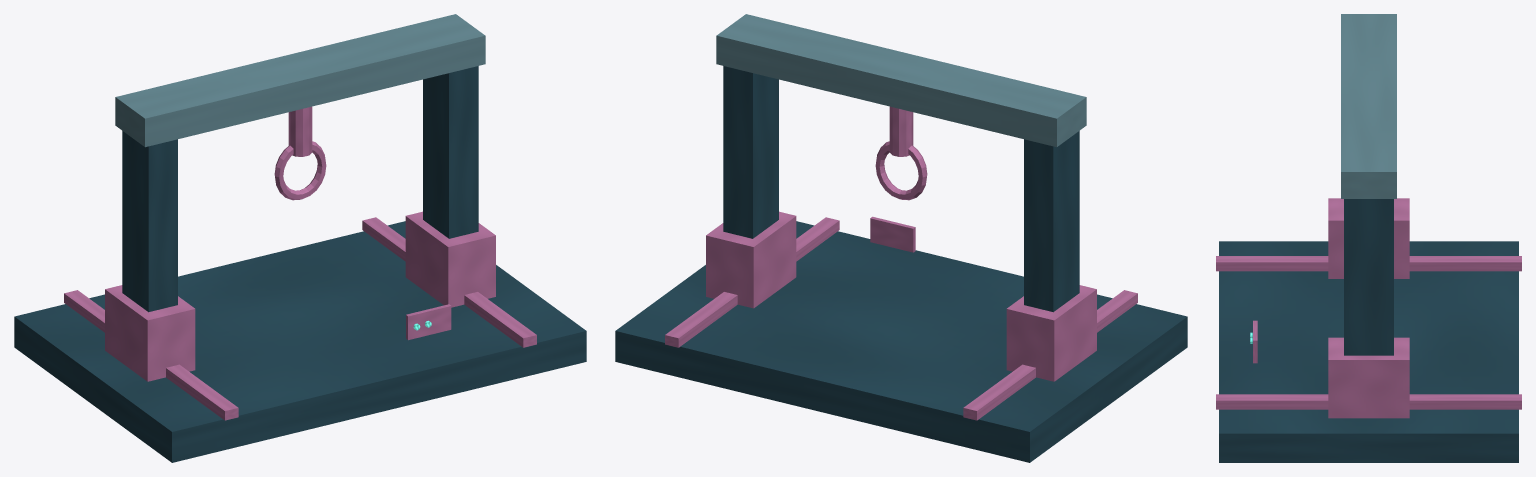
The model's file is atlas100-s069-a02.glb.
The picture shows the model from 3 angles, left to right: view 1: azimuth 30°, elevation 25°; view 2: azimuth 150°, elevation 25°; view 3: azimuth 270°, elevation 25°; orthographic projection. The views are drawn at different scales.
Visible parts, largest first — view 1: atlas100-s069-a02:part-000, atlas100-s069-a02:part-007, atlas100-s069-a02:part-003, atlas100-s069-a02:part-005, atlas100-s069-a02:part-004, atlas100-s069-a02:part-006, atlas100-s069-a02:part-002, atlas100-s069-a02:part-001, atlas100-s069-a02:part-009, atlas100-s069-a02:part-010, atlas100-s069-a02:part-008; view 2: atlas100-s069-a02:part-000, atlas100-s069-a02:part-007, atlas100-s069-a02:part-003, atlas100-s069-a02:part-005, atlas100-s069-a02:part-006, atlas100-s069-a02:part-004, atlas100-s069-a02:part-002, atlas100-s069-a02:part-001, atlas100-s069-a02:part-009, atlas100-s069-a02:part-010, atlas100-s069-a02:part-008; view 3: atlas100-s069-a02:part-000, atlas100-s069-a02:part-007, atlas100-s069-a02:part-005, atlas100-s069-a02:part-006, atlas100-s069-a02:part-002, atlas100-s069-a02:part-001, atlas100-s069-a02:part-004.
Boxes of the visible parts, x1,y1,x2,y2 form: atlas100-s069-a02:part-000: [14, 221, 586, 462]; atlas100-s069-a02:part-007: [115, 14, 485, 147]; atlas100-s069-a02:part-003: [122, 131, 177, 312]; atlas100-s069-a02:part-005: [423, 66, 478, 238]; atlas100-s069-a02:part-004: [105, 285, 195, 381]; atlas100-s069-a02:part-006: [405, 211, 495, 307]; atlas100-s069-a02:part-002: [362, 217, 536, 347]; atlas100-s069-a02:part-001: [64, 290, 238, 420]; atlas100-s069-a02:part-009: [274, 141, 326, 200]; atlas100-s069-a02:part-010: [406, 304, 451, 340]; atlas100-s069-a02:part-008: [288, 106, 312, 156]; atlas100-s069-a02:part-000: [615, 221, 1187, 462]; atlas100-s069-a02:part-007: [716, 14, 1086, 147]; atlas100-s069-a02:part-003: [1024, 131, 1079, 312]; atlas100-s069-a02:part-005: [723, 66, 778, 238]; atlas100-s069-a02:part-006: [706, 211, 796, 308]; atlas100-s069-a02:part-004: [1006, 285, 1096, 381]; atlas100-s069-a02:part-002: [665, 217, 839, 347]; atlas100-s069-a02:part-001: [963, 290, 1137, 420]; atlas100-s069-a02:part-009: [875, 141, 927, 200]; atlas100-s069-a02:part-010: [870, 216, 915, 252]; atlas100-s069-a02:part-008: [889, 106, 913, 156]; atlas100-s069-a02:part-000: [1219, 241, 1518, 462]; atlas100-s069-a02:part-007: [1341, 14, 1396, 198]; atlas100-s069-a02:part-005: [1344, 199, 1393, 355]; atlas100-s069-a02:part-006: [1328, 337, 1409, 418]; atlas100-s069-a02:part-002: [1216, 394, 1521, 409]; atlas100-s069-a02:part-001: [1216, 256, 1521, 271]; atlas100-s069-a02:part-004: [1328, 198, 1409, 278].
Size of the model in its own units: 3.64 by 2.42 by 2.45.
4 materials, 4 textured.
